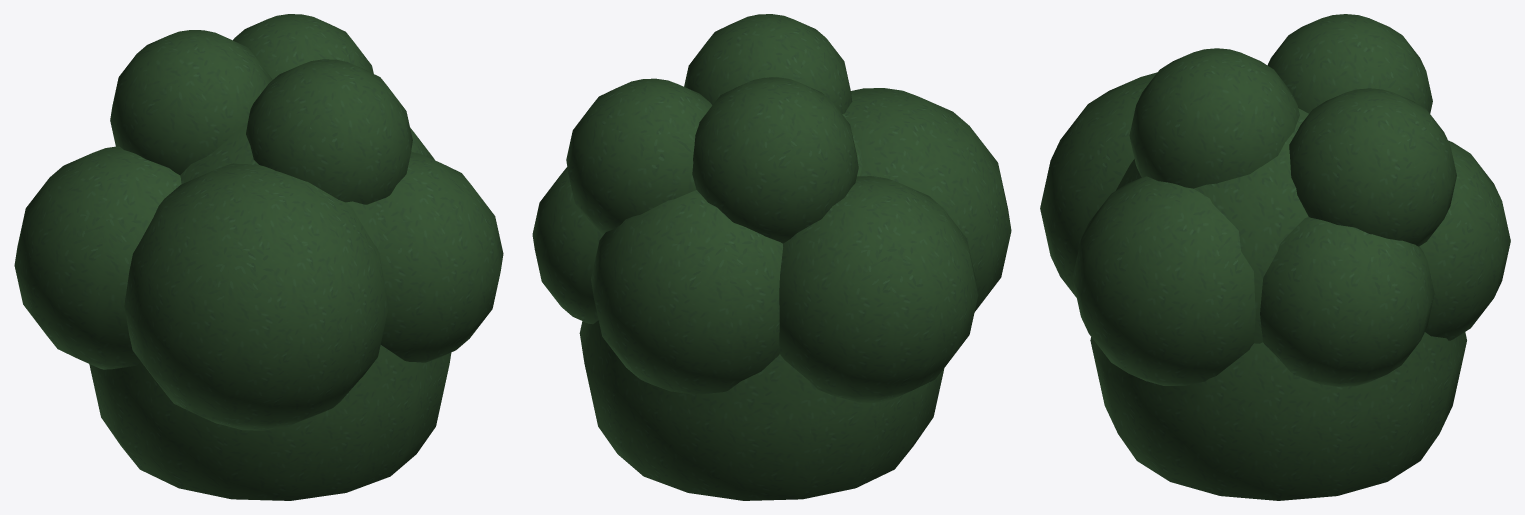
Rendered from bush.fbx.
3 renders of one model, left to right at view 1: azimuth 30°, elevation 25°; view 2: azimuth 150°, elevation 25°; view 3: azimuth 270°, elevation 25°, orthographic.
Parts seen in each view (by area): view 1: Sphere001; view 2: Sphere001; view 3: Sphere001.
Boxes of the visible parts, <box> form: Sphere001: <box>14,14,503,500</box>; Sphere001: <box>532,14,1011,500</box>; Sphere001: <box>1040,14,1510,500</box>.
Bounding box in the file's own units: 830 × 747 × 811.
